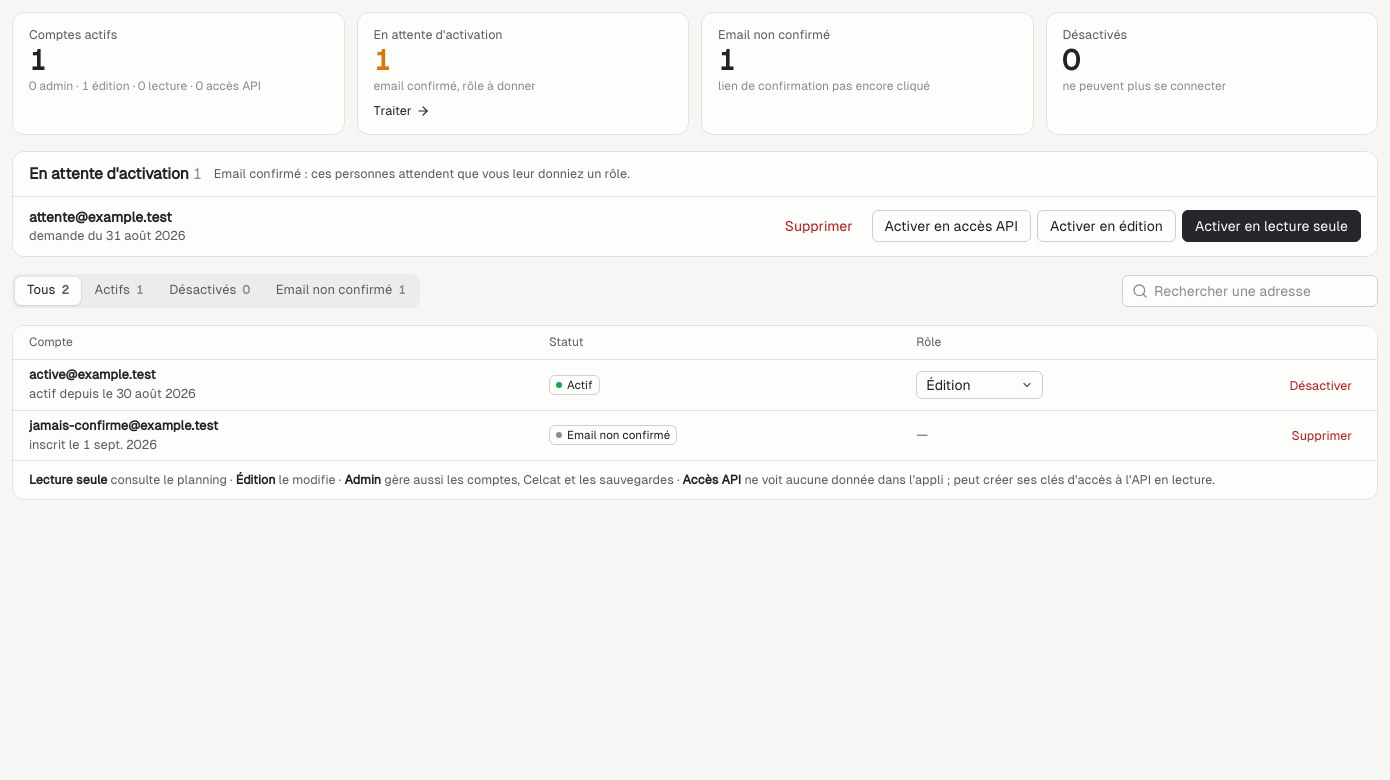
AdminUsersView › propose « Accès API » au changement de rôle, avec sa ligne de légende
Select "Accès API" in the dropdown named "Rôle de active@example.test" at (980, 385), box [916, 371, 1043, 399]
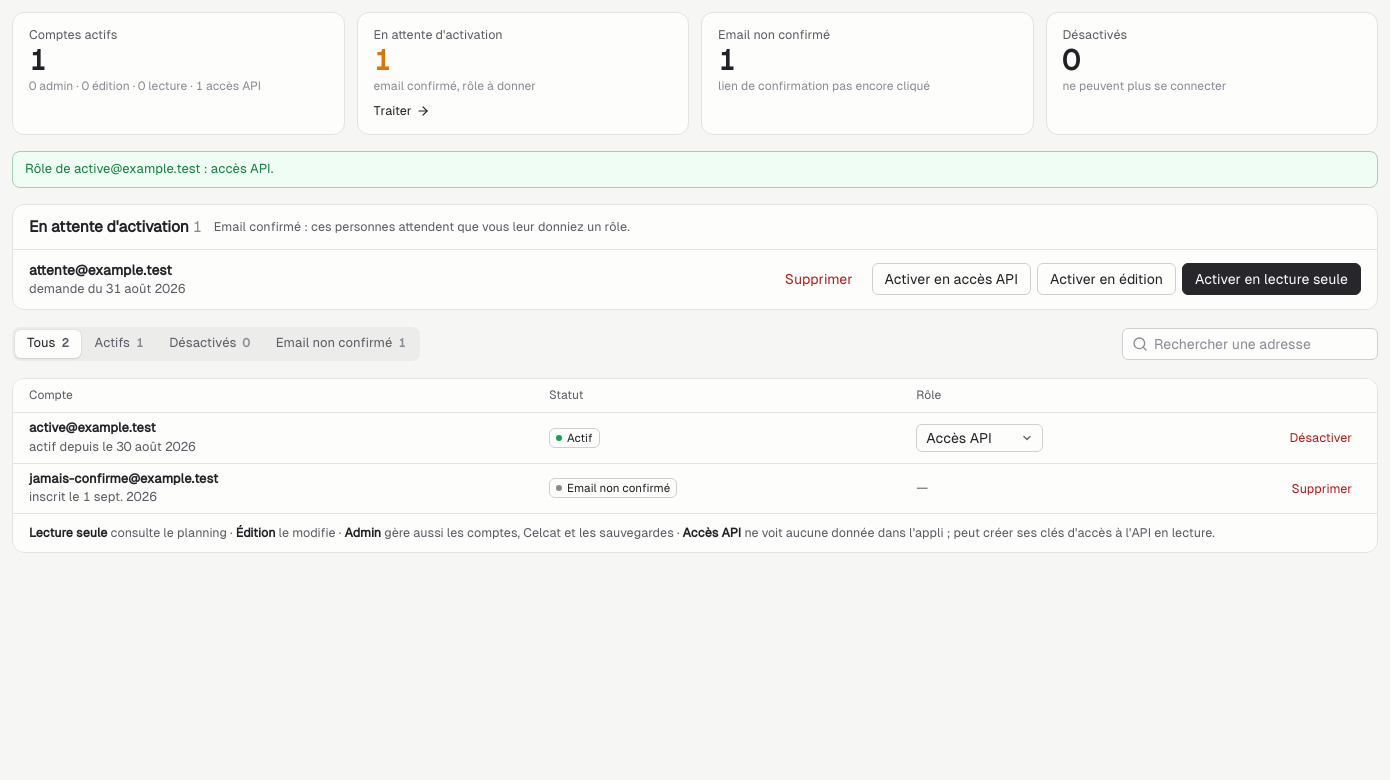
Expected: the text "0 admin · 0 édition · 0 lecture · 1 accès API" is shown, [29, 78, 261, 94]
